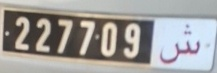0: (101, 20, 118, 58)
2: (12, 13, 30, 52), (36, 16, 51, 54)
7: (56, 16, 74, 56), (78, 18, 94, 58)
9: (124, 20, 141, 60)
ch: (159, 21, 204, 64)
